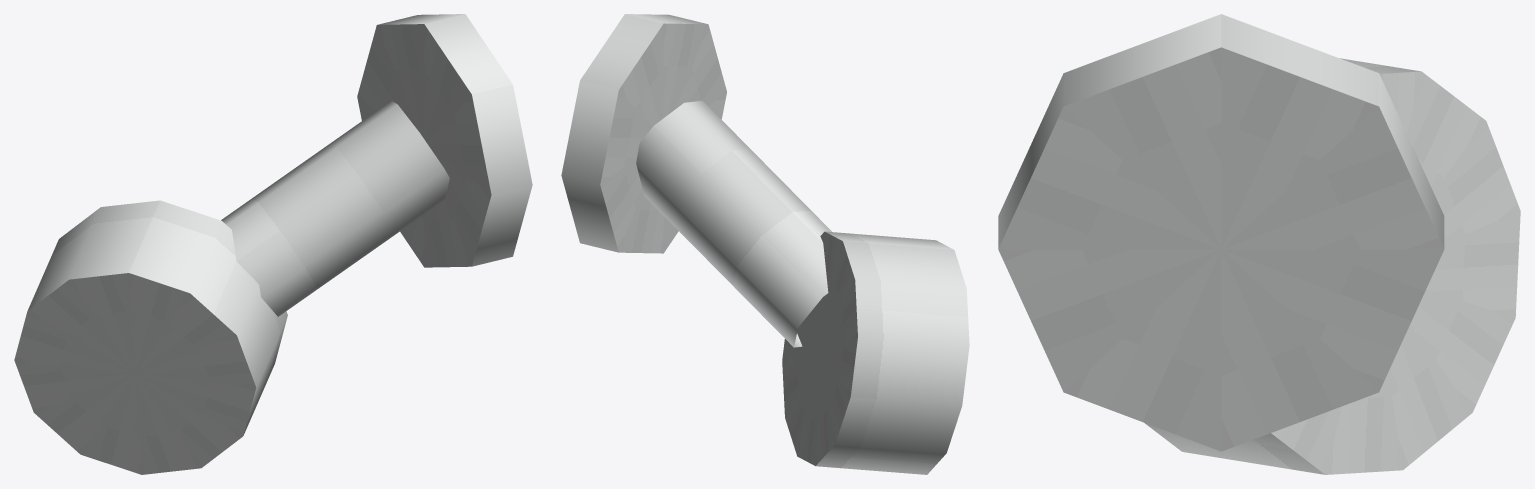
File: nycsignalarm_stub_178.obj
The picture shows the model from 3 angles, left to right: view 1: azimuth 30°, elevation 25°; view 2: azimuth 150°, elevation 25°; view 3: azimuth 270°, elevation 25°; orthographic projection. The views are drawn at different scales.
Visible parts, largest first — view 1: nycsignalarm_stub_178; view 2: nycsignalarm_stub_178; view 3: nycsignalarm_stub_178.
Boxes of the visible parts, bbox=[...] form: nycsignalarm_stub_178: bbox=[14, 14, 532, 474]; nycsignalarm_stub_178: bbox=[561, 14, 969, 474]; nycsignalarm_stub_178: bbox=[998, 14, 1520, 474].
Size of the model in its own units: 0.6078 by 0.565 by 0.4099.
